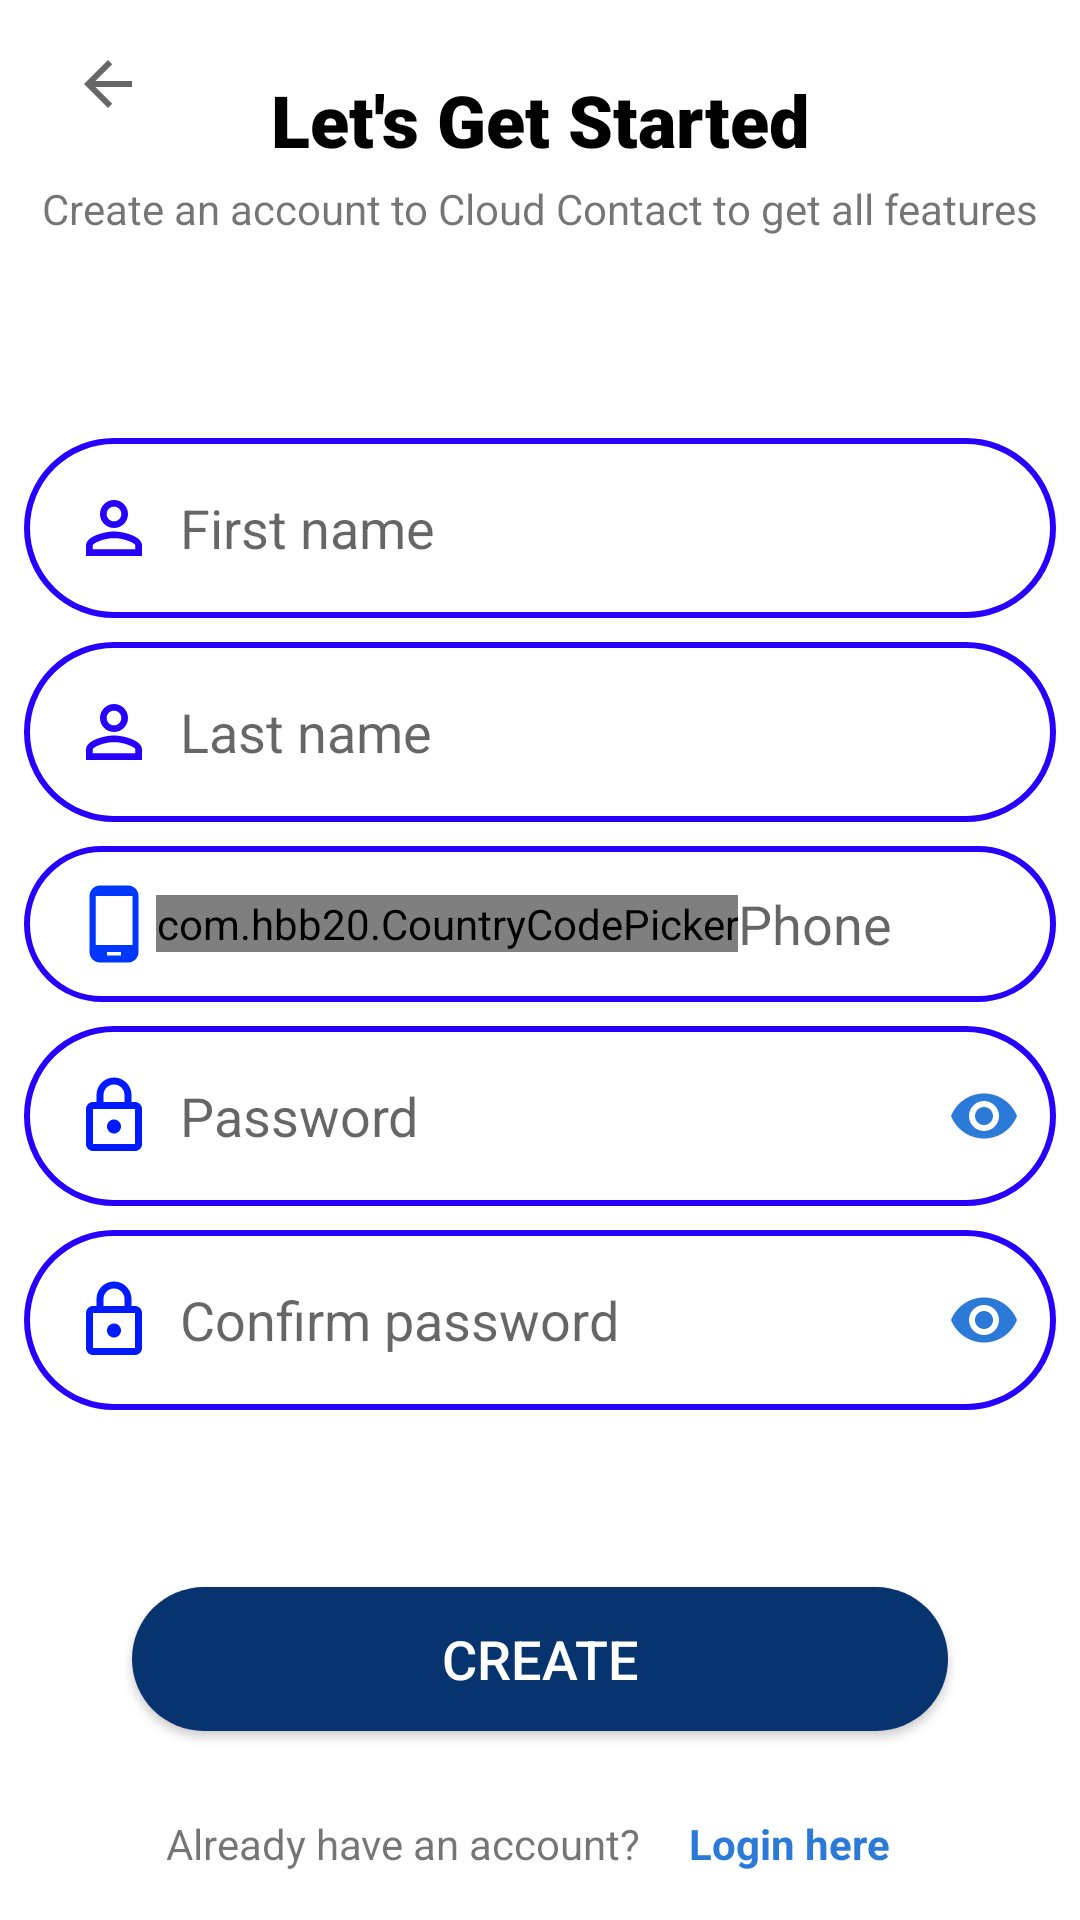

Where icons sit on this 1080 × 1920 app screen, as rect(x1, y1, x2, y2):
phone: rect(89, 885, 139, 963)
